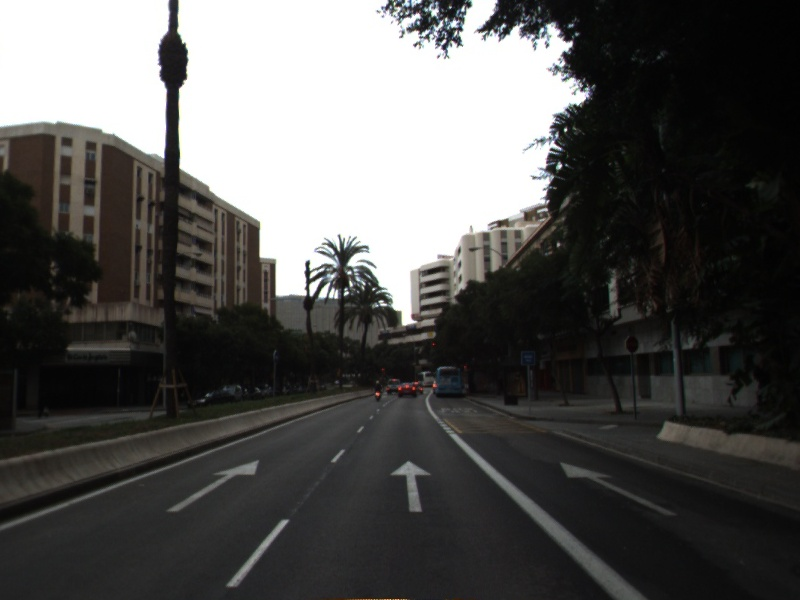STRAIGHT: (559, 460, 680, 518), (164, 458, 261, 514), (388, 459, 434, 514)
